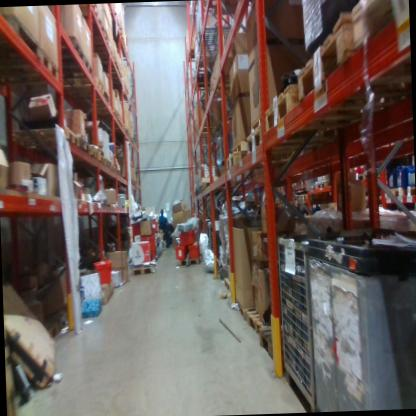pallet: (291, 1, 411, 112), (257, 67, 403, 143), (223, 151, 323, 185), (0, 44, 67, 89), (347, 0, 409, 46), (14, 120, 83, 153), (0, 15, 44, 62), (55, 56, 97, 88), (258, 323, 290, 361), (231, 294, 258, 332), (49, 31, 81, 62), (244, 301, 267, 342), (243, 118, 264, 160), (57, 82, 103, 101), (383, 181, 407, 208), (129, 260, 158, 279), (227, 140, 249, 164), (346, 169, 371, 190), (77, 15, 106, 33), (174, 254, 204, 269), (70, 5, 102, 19), (79, 130, 93, 161), (221, 275, 237, 301), (311, 178, 329, 197), (90, 143, 100, 165), (295, 193, 311, 205), (403, 184, 415, 198), (296, 179, 312, 188), (97, 154, 107, 165), (93, 147, 107, 154)
small_load_carrier: (90, 254, 116, 285), (176, 228, 200, 247), (187, 239, 205, 259), (136, 231, 157, 248), (173, 243, 188, 261), (147, 243, 156, 262)
stillage: (267, 234, 315, 409), (197, 0, 236, 45)
